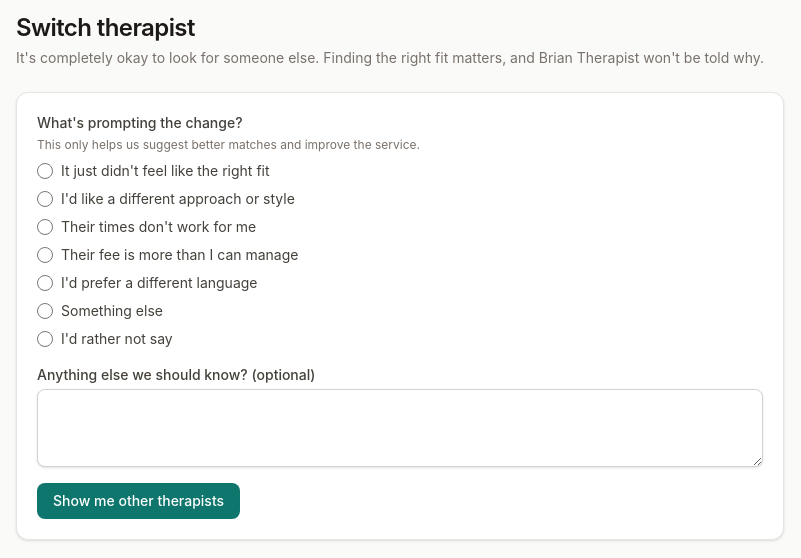
Test: SwitchTherapistPage › shows new matches, and reminds the client their existing sessions weren't cancelled
Check: the text "brian therapist won't be told why" is shown, box [16,49,764,66]
Click the radio button labelled "I'd rather not say". click: (45, 339)
box: [37,331,53,347]
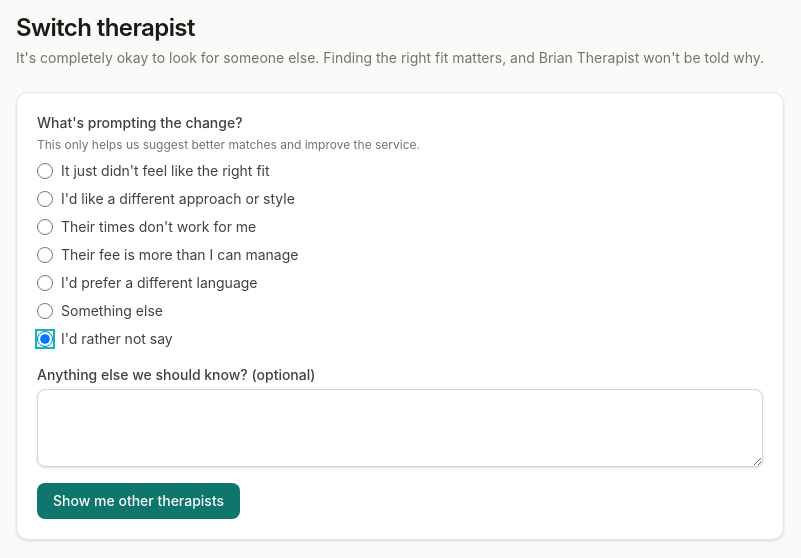
Click the button "Show me other therapists". click: (139, 501)
box: [37,483,240,519]
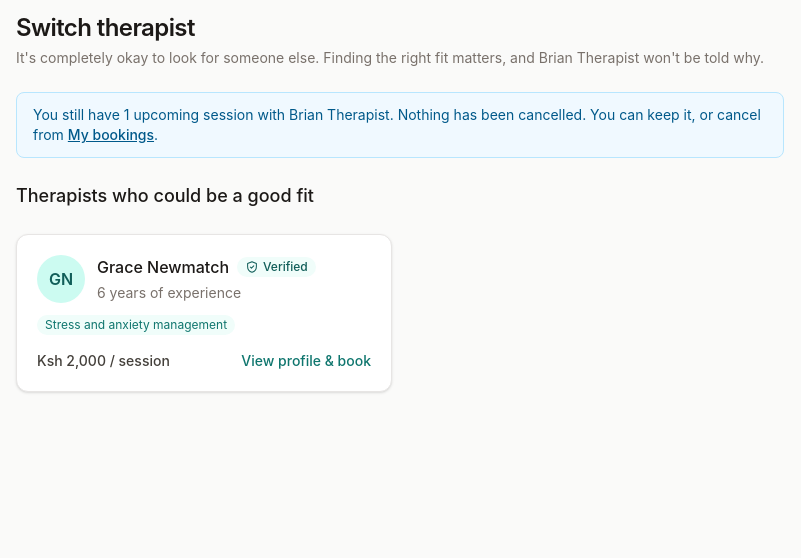
Check: the heading "Grace Newmatch" is shown, box [97,255,229,279]
Check: the text "You still have 1 upcoming session with Brian Therapist" is shown, box [16,92,784,158]
